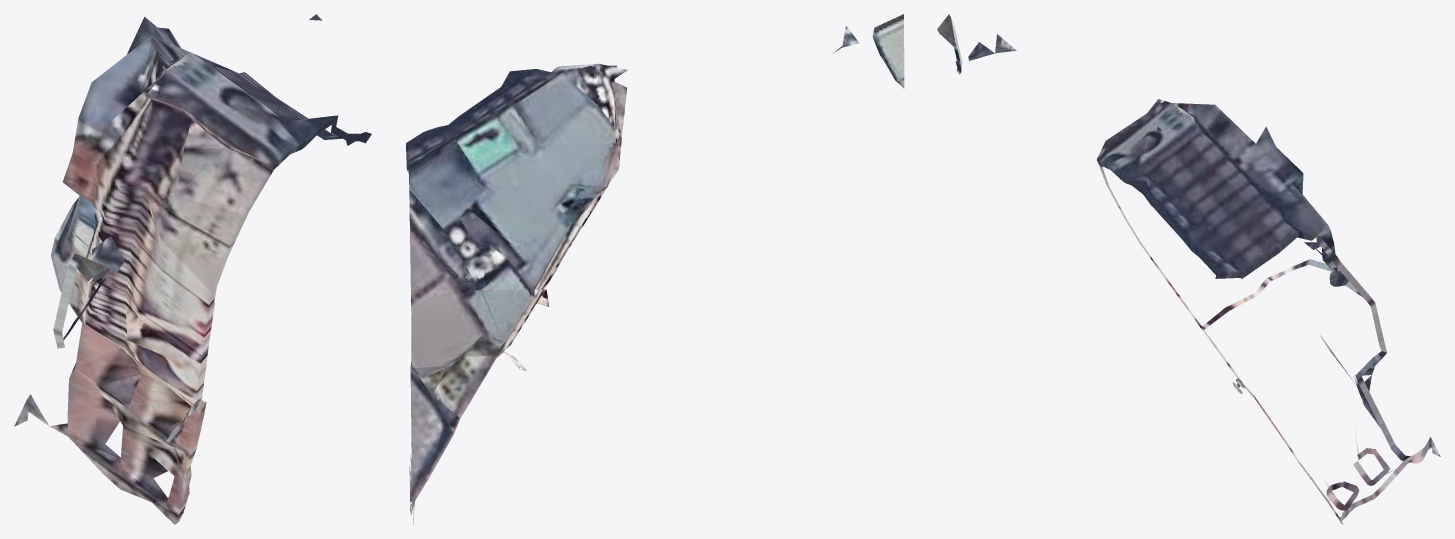
3 views of the same model, side by side, from view 1: azimuth 30°, elevation 25°; view 2: azimuth 150°, elevation 25°; view 3: azimuth 270°, elevation 25° (orthographic). The views are drawn at different scales.
Bounding box in the file's own units: 29.08 × 32.71 × 37.93.
Materials: 1 (1 with a texture image).
